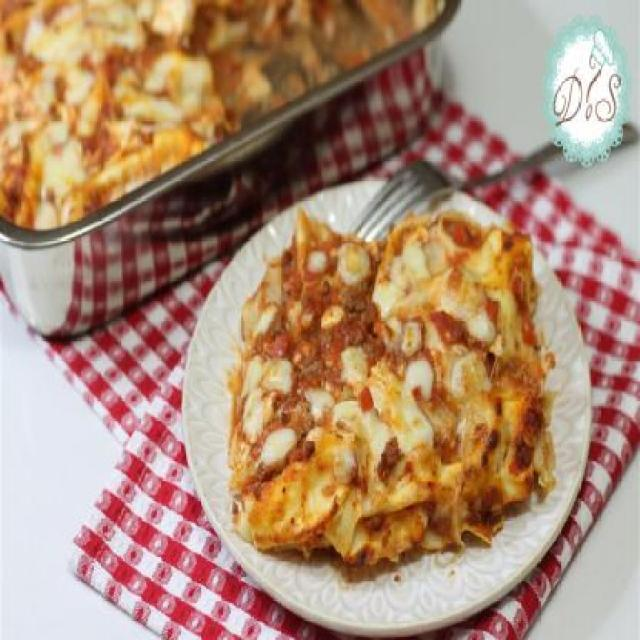Pasta al ragu: (219, 204, 573, 538)
